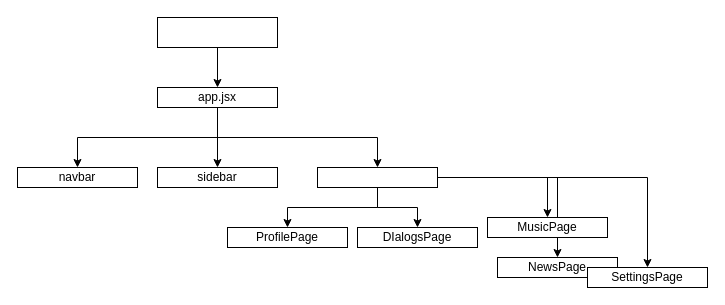
This 725x305 diagram has some shape labels left out. The shapes that lost their labels are listed below. From the top down, each one's centre as x and y in pixels, then its label:
At point 217,32: "index.js".
At point 377,177: "mainContent (router)".
